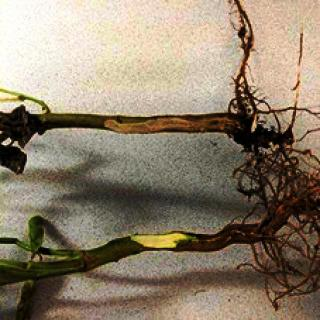wilt: (103, 109, 236, 138), (124, 227, 236, 251), (4, 104, 38, 158)
